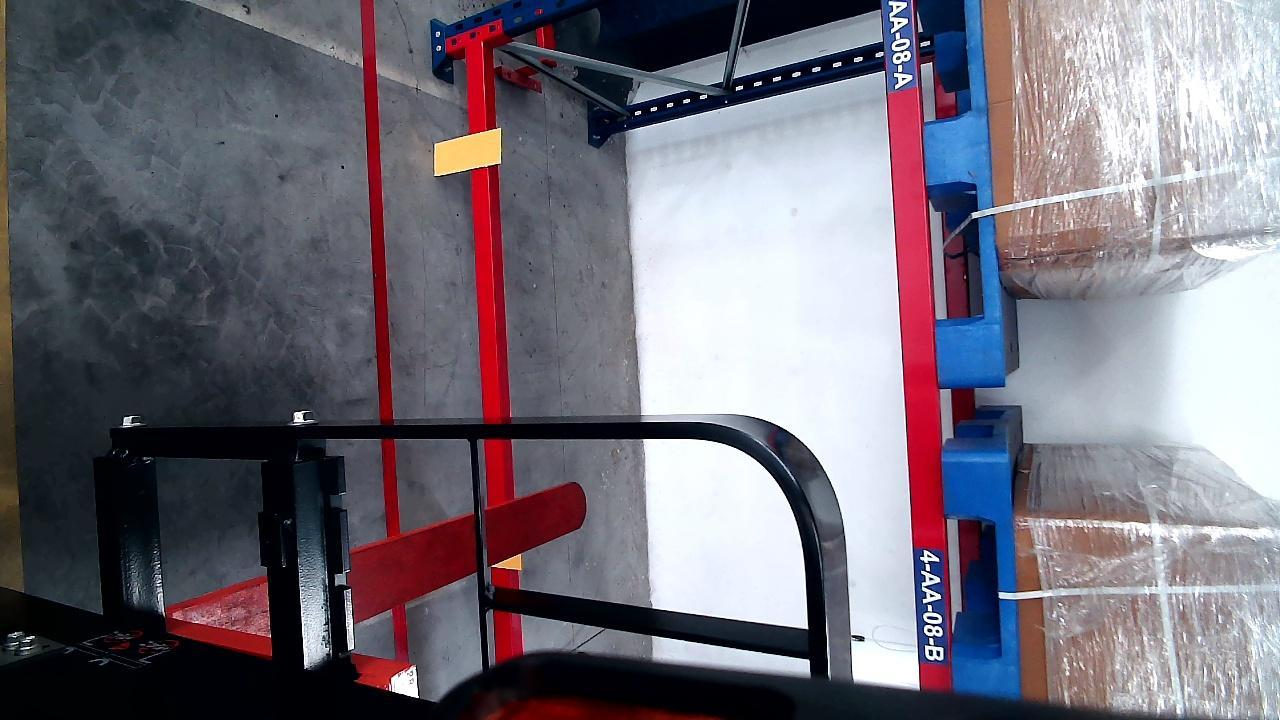red_line: (358, 4, 412, 660)
